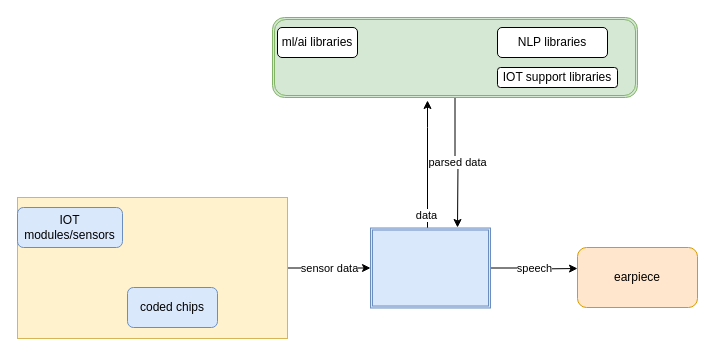
Some shapes in this 715 by 356 pixel diagram are drawn without their labels. The shapes that lost their labels are listed below. From the top down, each one's box as (x1, y1, x2, y2) in pixels, then its label:
(272, 16, 638, 98): cloud
(16, 196, 288, 338): visor hardware
(370, 227, 490, 308): smartphone
